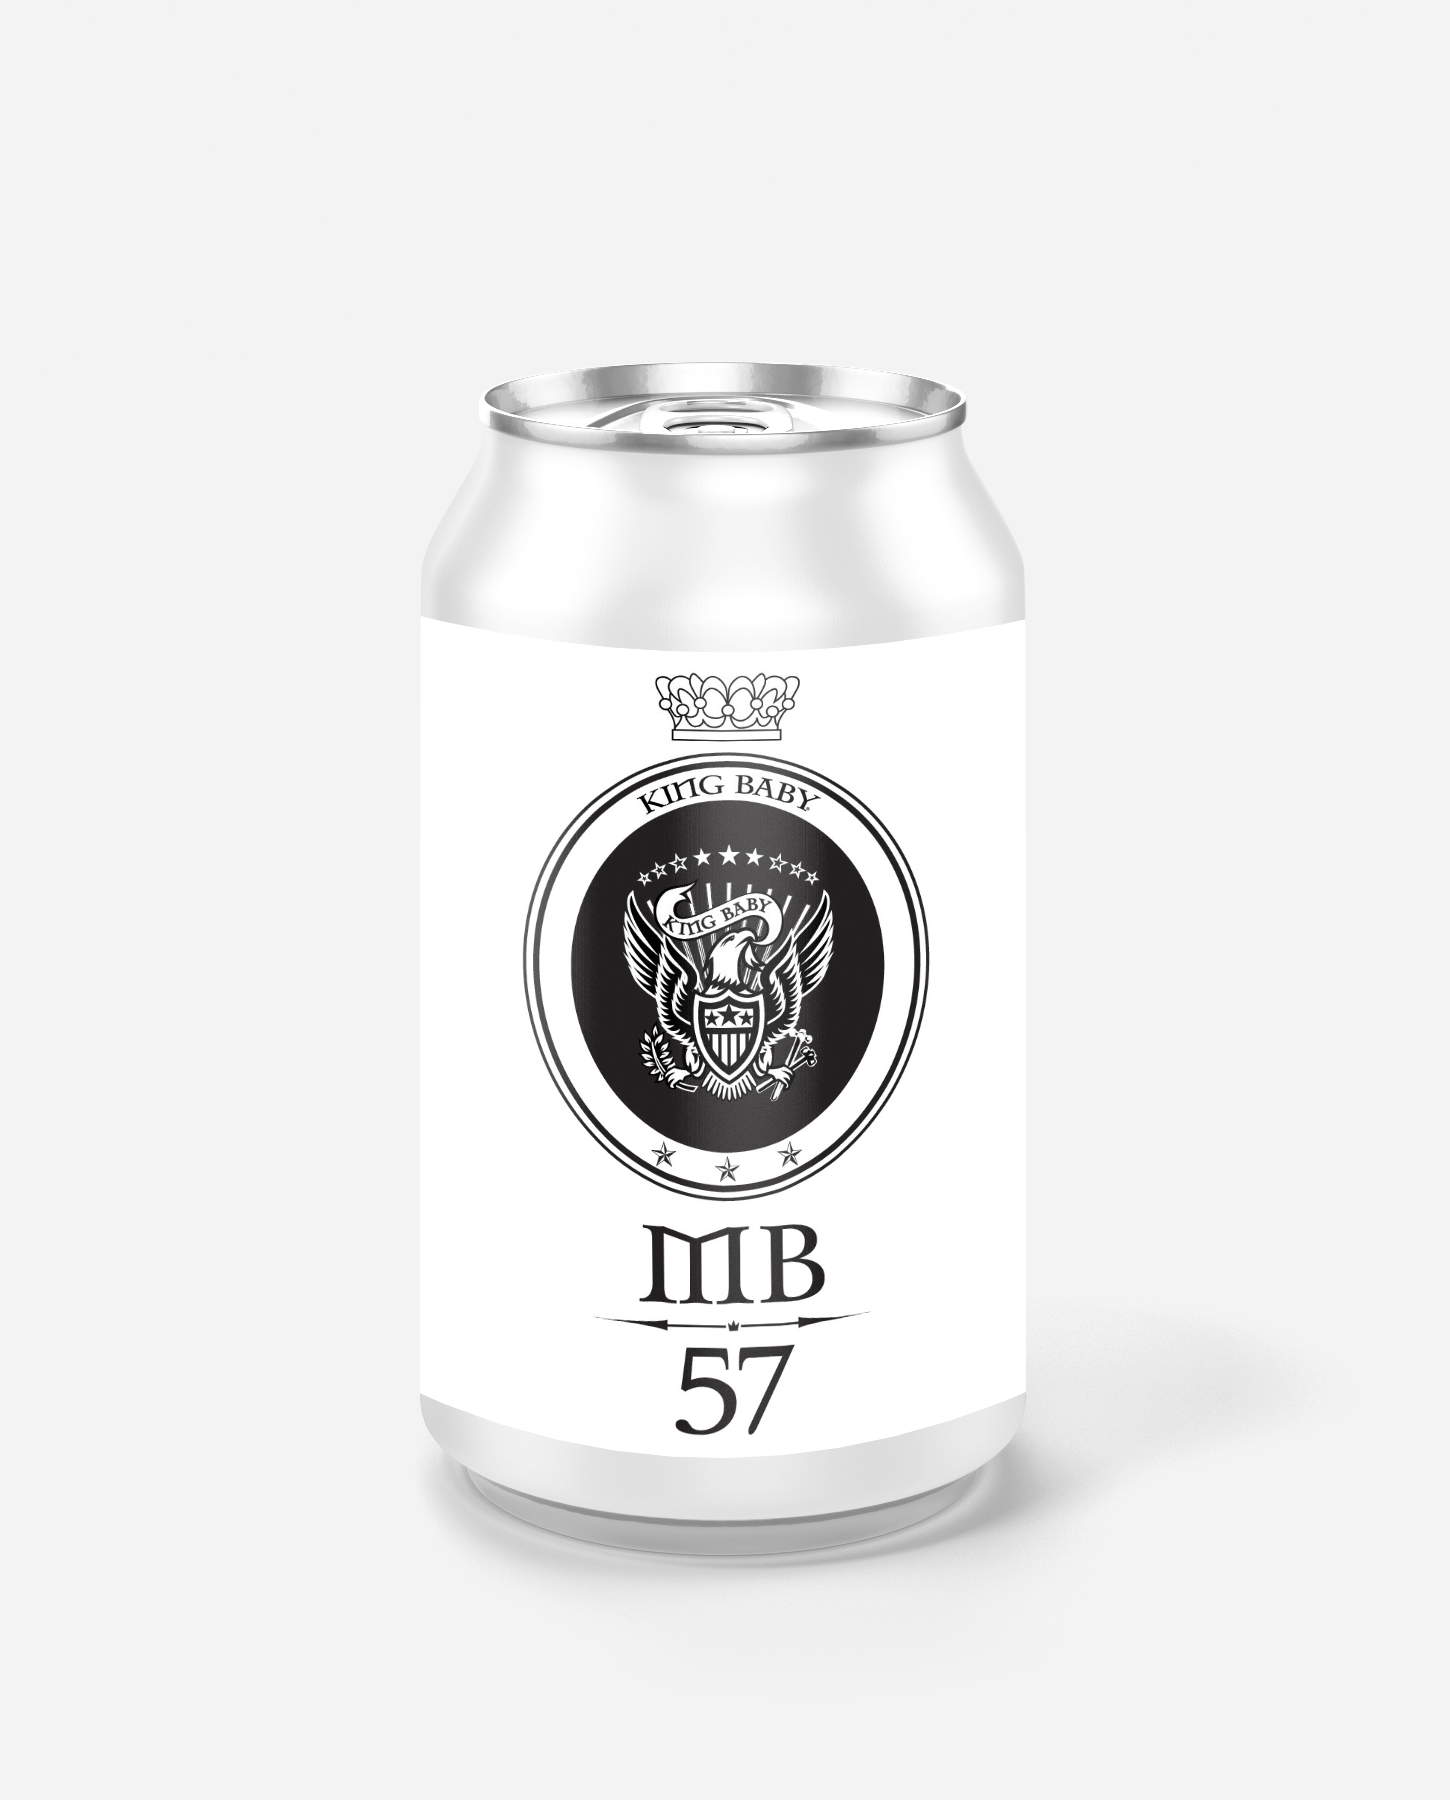beer can: (413, 345, 1028, 1554)
